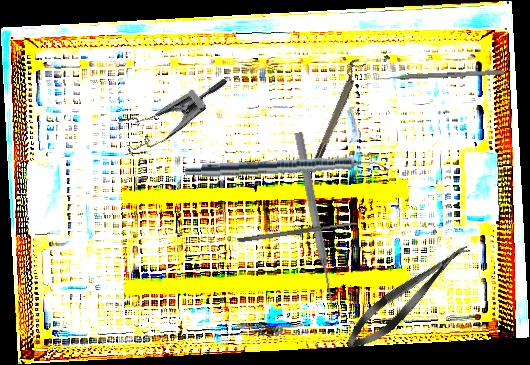Fixation Ring: (306, 56, 367, 167)
Handpiece: (183, 153, 391, 183)
Micro Scissor: (338, 234, 477, 359)
Pusher: (292, 131, 338, 307), (370, 69, 505, 82)
Spatula Surgical: (237, 220, 359, 244)
Speculum: (107, 45, 229, 172)
